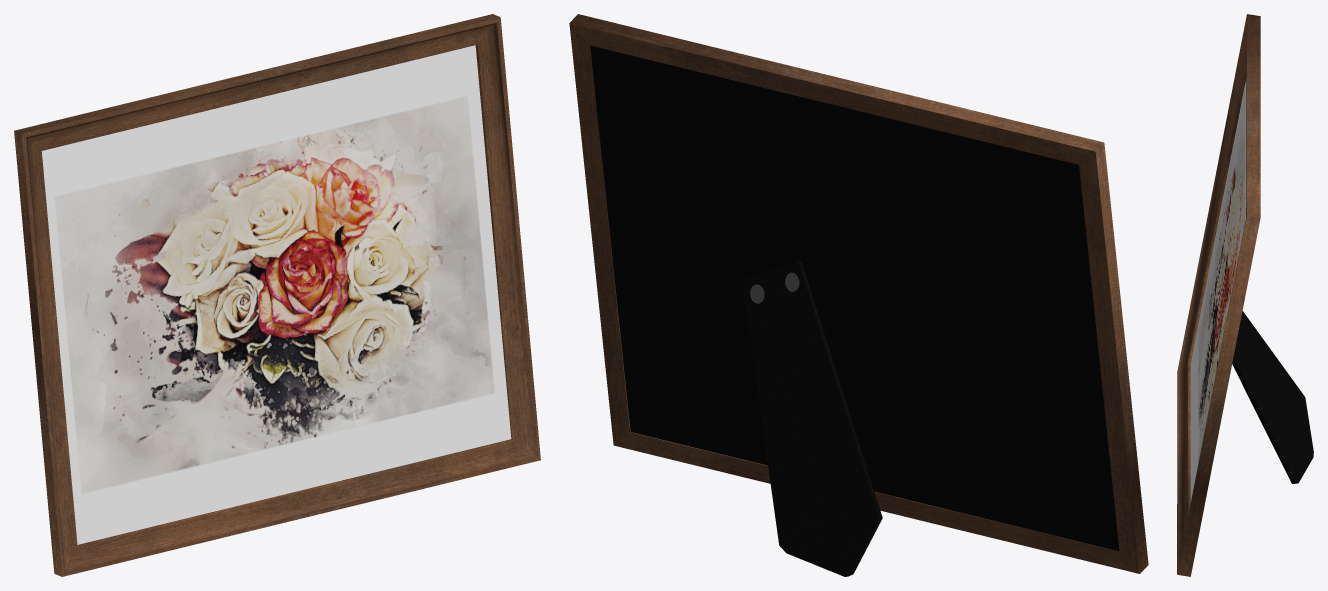
File: PhotoFrame01_2A.FBX
3 renders of one model, left to right at view 1: azimuth 30°, elevation 25°; view 2: azimuth 150°, elevation 25°; view 3: azimuth 270°, elevation 25°, orthographic. The views are drawn at different scales.
Parts seen in each view (by area): view 1: PhotoFrame01_2A; view 2: PhotoFrame01_2A; view 3: PhotoFrame01_2A.
Boxes of the visible parts, bbox=[...] form: PhotoFrame01_2A: bbox=[14, 14, 540, 576]; PhotoFrame01_2A: bbox=[569, 14, 1148, 576]; PhotoFrame01_2A: bbox=[1177, 14, 1313, 576].
Bounding box in the file's own units: 0.2662 × 0.2211 × 0.076.
